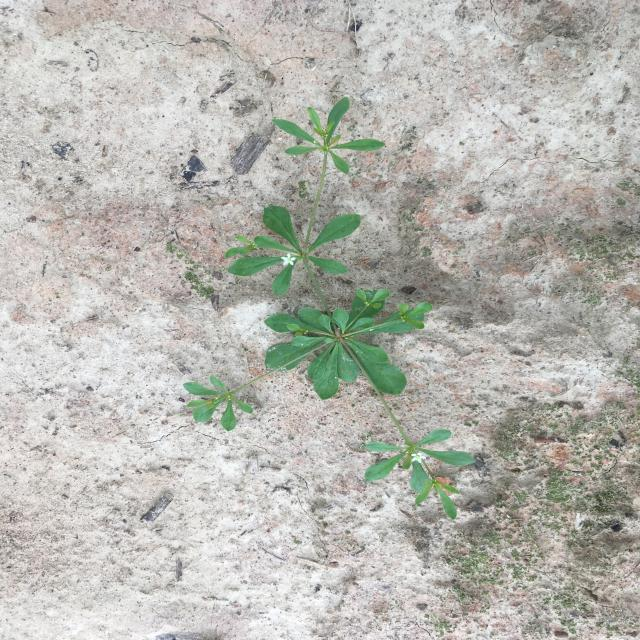Carpetweed: (182, 96, 476, 520)
